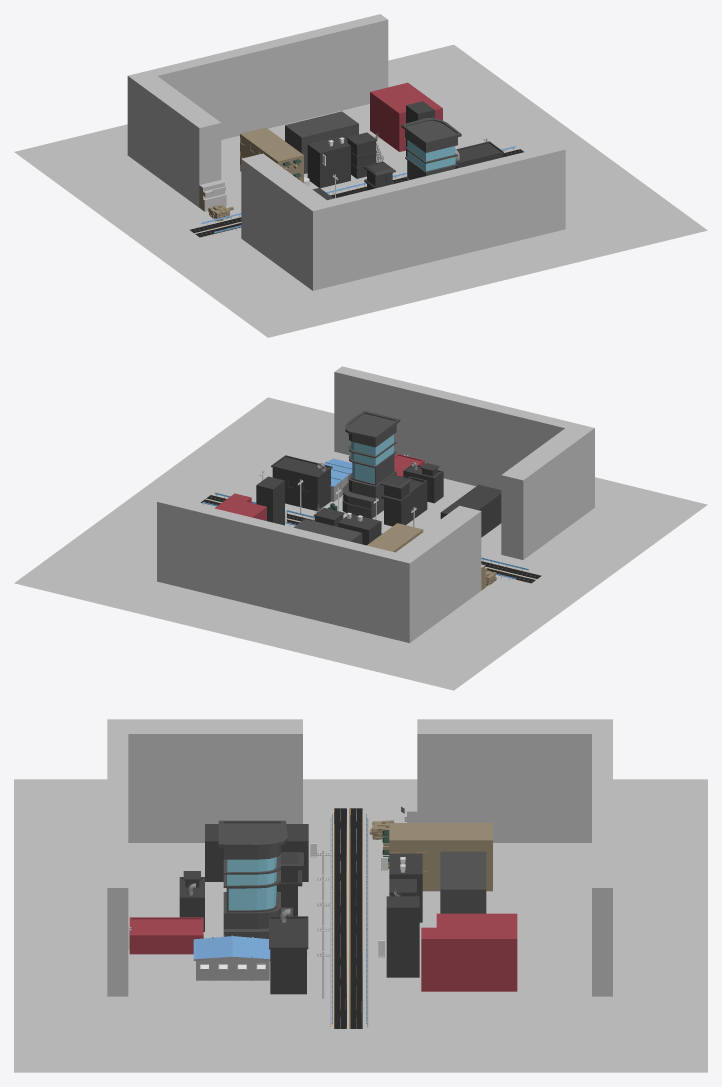
File: town_v3.fbx
3 views of the same model, one above another, from view 1: azimuth 30°, elevation 25°; view 2: azimuth 150°, elevation 25°; view 3: azimuth 270°, elevation 25° (orthographic). The views are drawn at different scales.
Visible parts, largest first — view 1: Cube.013, Plane.016, Cube.014, Cube.012, Cube.004, Cube.002, Cube.001, Cube.003, Cube.009, Cube.010, Plane.001; view 2: Cube.013, Plane.016, Cube.014, Cube.009, Cube.010, Cube, Cube.011, Cube.001, Cube.005, Cube.012, Cube.004, Cube.002 (+1 smaller); view 3: Plane.016, Cube.013, Cube.012, Cube.014, Cube.001, Cube.008, Plane.001, Cube.009, Cube.004, Plane, Cube.011, Cube.006 (+7 smaller).
Boxes of the visible parts, bbox=[...] form: Cube.013: bbox=[127, 14, 565, 290]; Plane.016: bbox=[14, 44, 707, 337]; Cube.014: bbox=[401, 117, 461, 180]; Cube.012: bbox=[370, 82, 442, 151]; Cube.004: bbox=[285, 111, 358, 173]; Cube.002: bbox=[307, 136, 350, 188]; Cube.001: bbox=[240, 127, 303, 182]; Cube.003: bbox=[346, 132, 377, 178]; Cube.009: bbox=[455, 141, 503, 168]; Cube.010: bbox=[363, 161, 395, 190]; Plane.001: bbox=[189, 149, 523, 233]; Cube.013: bbox=[157, 366, 594, 643]; Plane.016: bbox=[14, 397, 707, 690]; Cube.014: bbox=[342, 410, 400, 518]; Cube.009: bbox=[271, 455, 332, 510]; Cube.010: bbox=[380, 474, 427, 526]; Cube: bbox=[440, 484, 501, 537]; Cube.011: bbox=[256, 476, 284, 525]; Cube.001: bbox=[367, 523, 423, 552]; Cube.005: bbox=[403, 463, 443, 503]; Cube.012: bbox=[215, 493, 266, 520]; Cube.004: bbox=[293, 519, 362, 544]; Cube.002: bbox=[338, 514, 381, 545]; Plane.016: bbox=[14, 779, 707, 1072]; Cube.013: bbox=[107, 719, 612, 996]; Cube.012: bbox=[421, 913, 517, 991]; Cube.014: bbox=[218, 820, 292, 938]; Cube.001: bbox=[382, 823, 492, 891]; Cube.008: bbox=[193, 935, 270, 980]; Plane.001: bbox=[349, 808, 362, 1028]; Cube.009: bbox=[269, 916, 308, 994]; Cube.004: bbox=[440, 851, 486, 913]; Plane: bbox=[334, 808, 346, 1028]; Cube.011: bbox=[386, 896, 419, 977]; Cube.006: bbox=[129, 917, 203, 954].
Size of the model in its own units: 13287 by 2408 by 13287.
